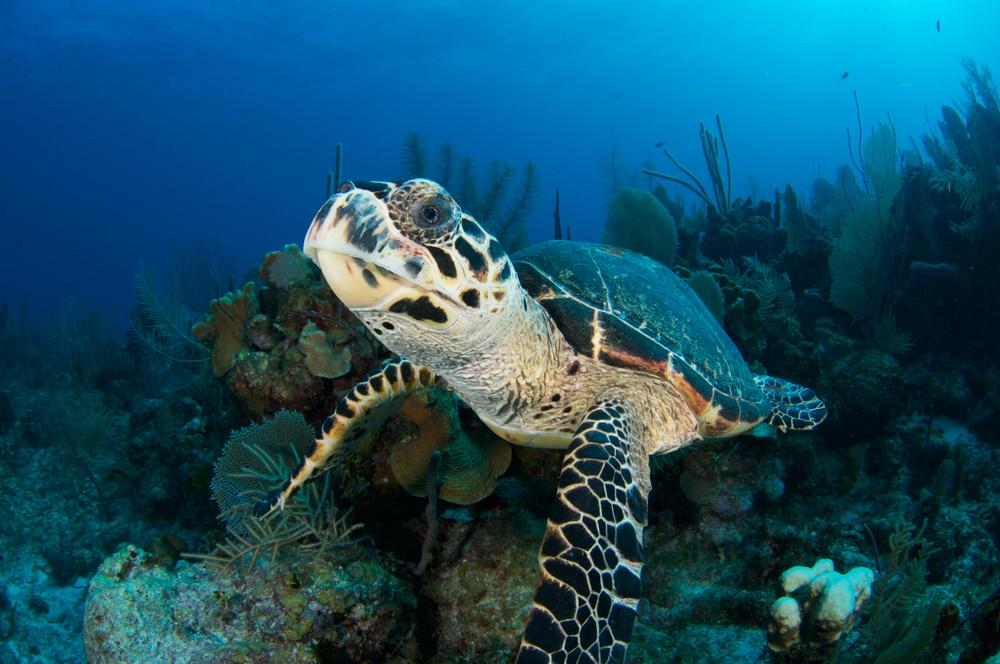turtle: (294, 165, 531, 362)
